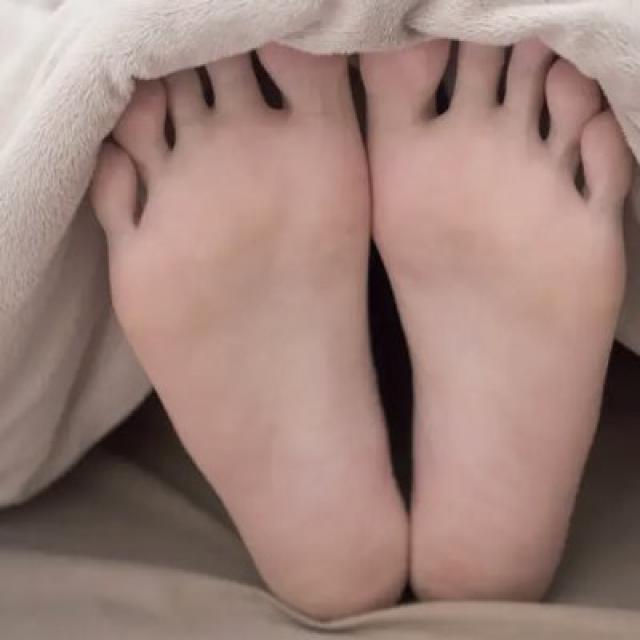Barefoots: (80, 6, 408, 626), (351, 2, 633, 624)
